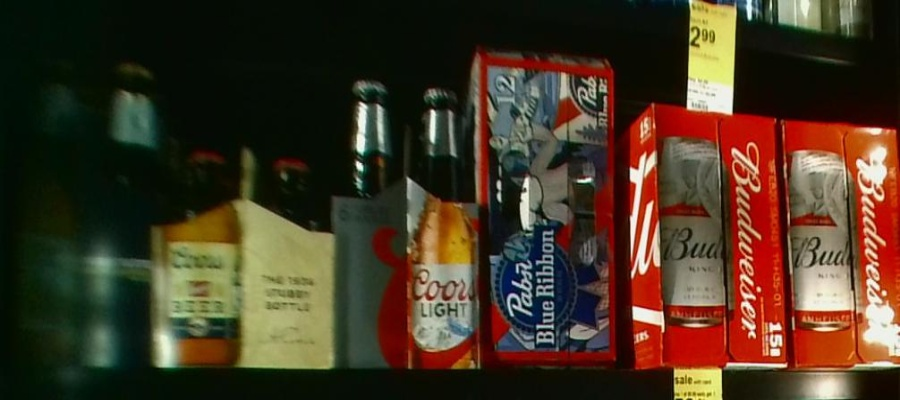bottle: (474, 47, 620, 369), (1, 52, 149, 367), (629, 102, 789, 372), (157, 136, 335, 377), (335, 79, 478, 368), (777, 116, 900, 372)
